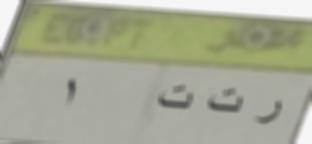1: (58, 74, 91, 108)
raa: (251, 92, 284, 131)
taa: (153, 79, 198, 115), (206, 85, 244, 114)
